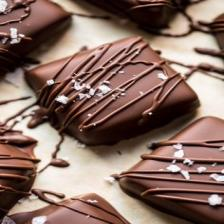brown: (0, 0, 71, 76)
